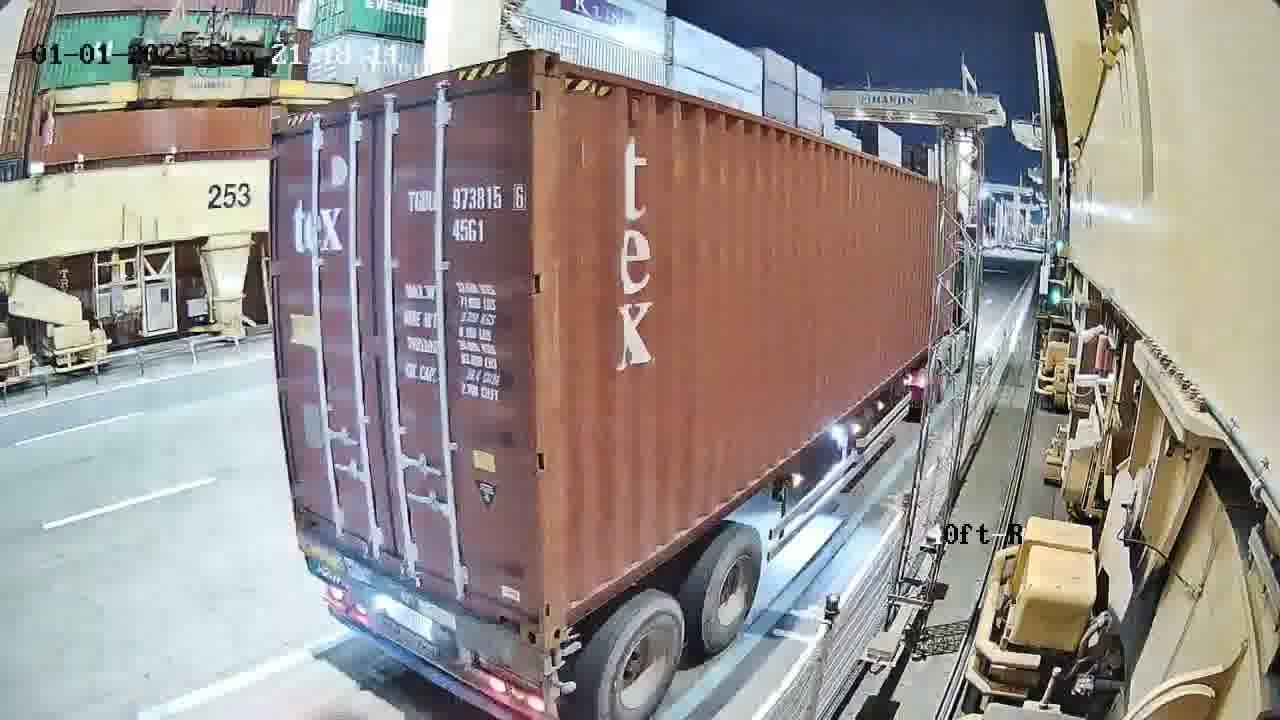Chassis: (297, 535, 552, 675)
Cone: (550, 645, 571, 673)
Hole_L: (540, 567, 592, 654)
Hole_R: (501, 584, 548, 654)
Tire: (601, 603, 688, 719), (702, 530, 762, 648)
